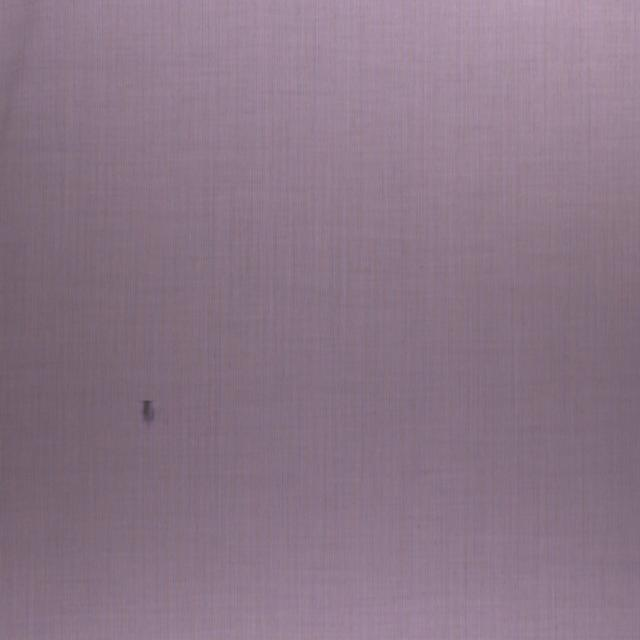dirty: (140, 394, 154, 431)
